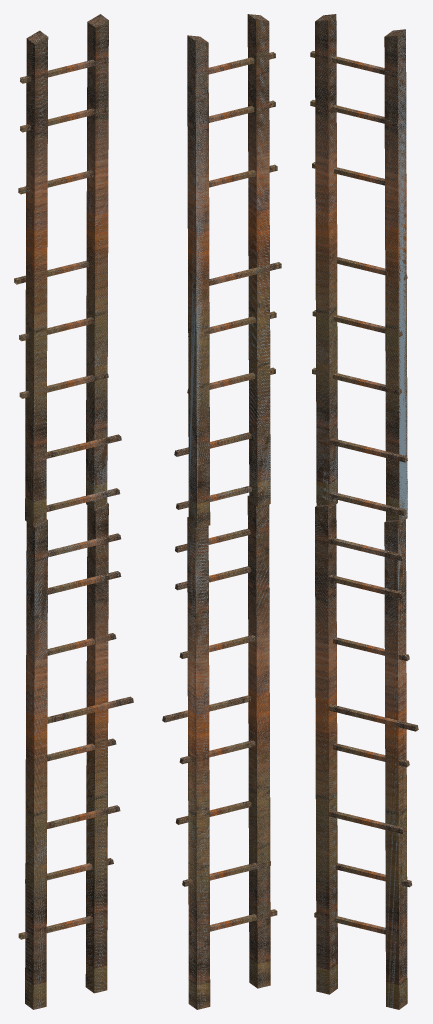
The model's file is Ladder.fbx.
3 views of the same model, side by side, from view 1: azimuth 30°, elevation 25°; view 2: azimuth 210°, elevation 25°; view 3: azimuth 330°, elevation 25° (orthographic).
Visible parts, largest first — view 1: Group1; view 2: Group1; view 3: Group1.
Part boxes in pixels (x1=…): Group1: x1=14, y1=14, x2=133, y2=1009; Group1: x1=162, y1=14, x2=281, y2=1009; Group1: x1=310, y1=14, x2=418, y2=1009.
Bounding box in the file's own units: 19.5 × 167 × 4.42.
